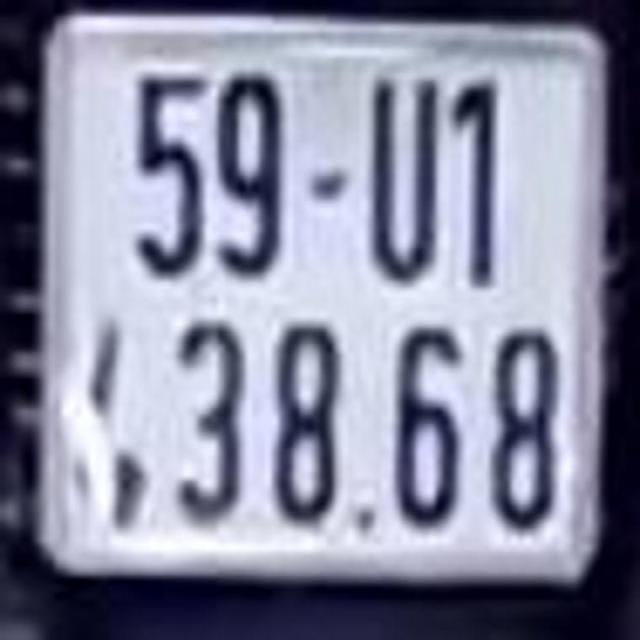1: (451, 72, 500, 291)
3: (168, 315, 244, 527)
5: (125, 67, 208, 279)
6: (389, 320, 462, 528)
8: (487, 324, 561, 530), (269, 316, 340, 527)
9: (213, 67, 286, 287)
U: (369, 76, 443, 284)
